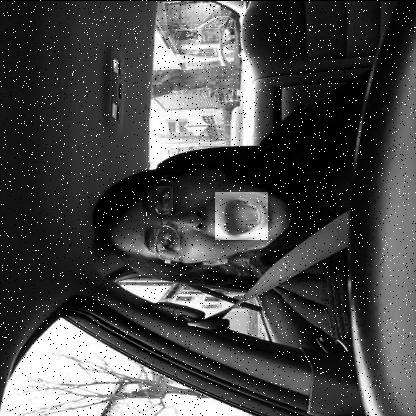seatbelt: (76, 162, 350, 300)
